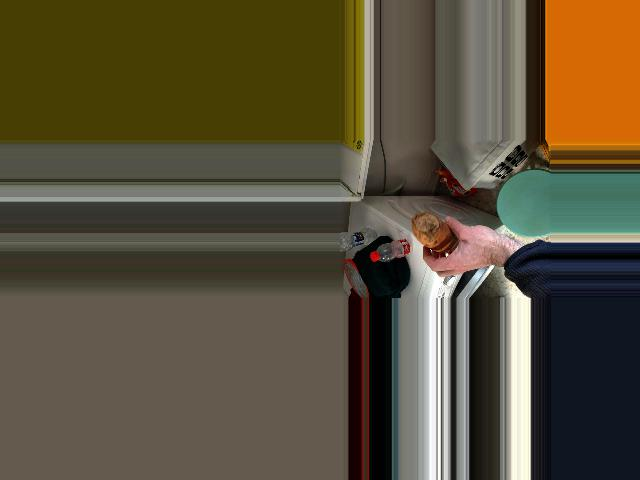sweet_potato: (410, 213, 458, 252)
